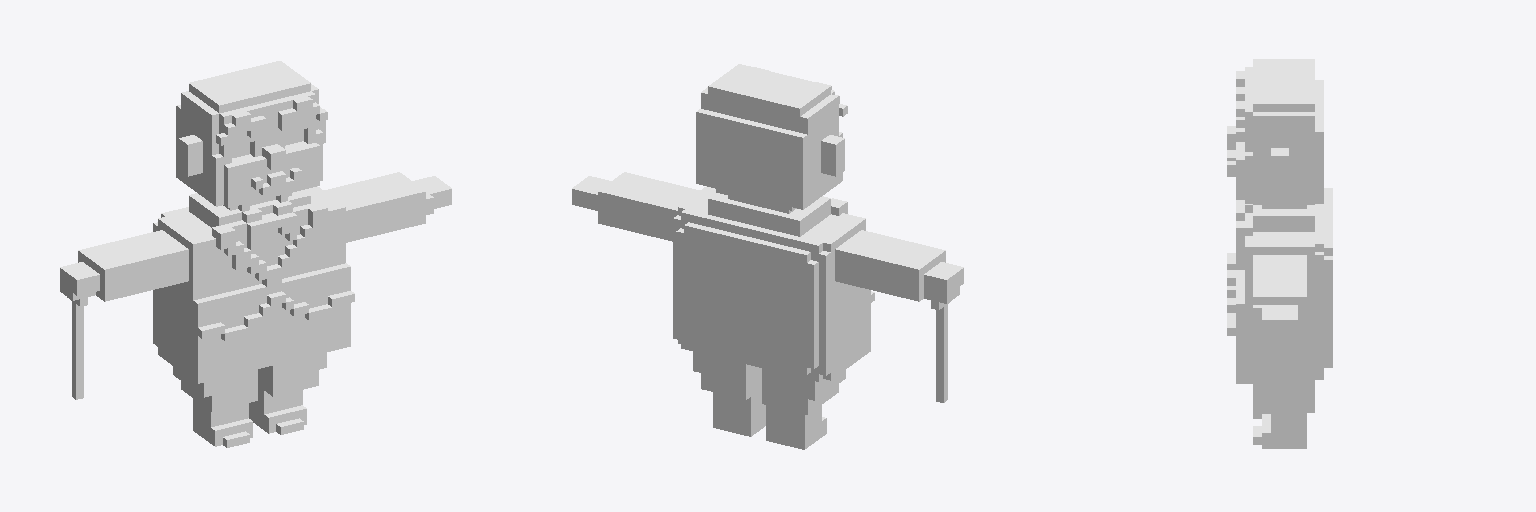
File: mayordomo1.obj
3 renders of one model, left to right at view 1: azimuth 30°, elevation 25°; view 2: azimuth 150°, elevation 25°; view 3: azimuth 270°, elevation 25°, orthographic.
Visible parts, largest first — view 1: object 1; view 2: object 1; view 3: object 1.
Boxes of the visible parts, <box> form: object 1: <box>60,61,451,447</box>; object 1: <box>572,64,963,449</box>; object 1: <box>1227,59,1332,448</box>.
Size of the model in its own units: 4.9 by 4.3 by 1.2.